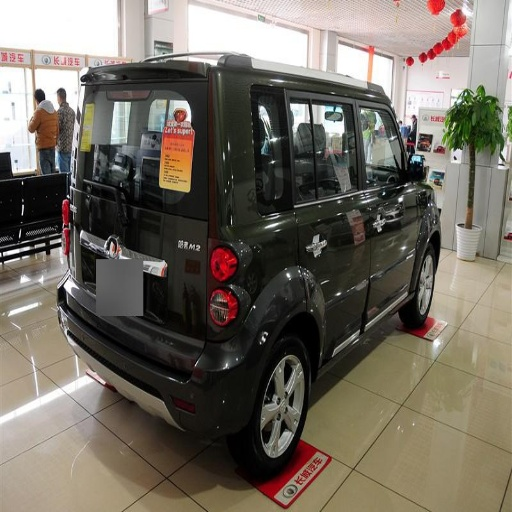back_right_door: (297, 102, 379, 352)
trunk: (77, 224, 212, 337)
